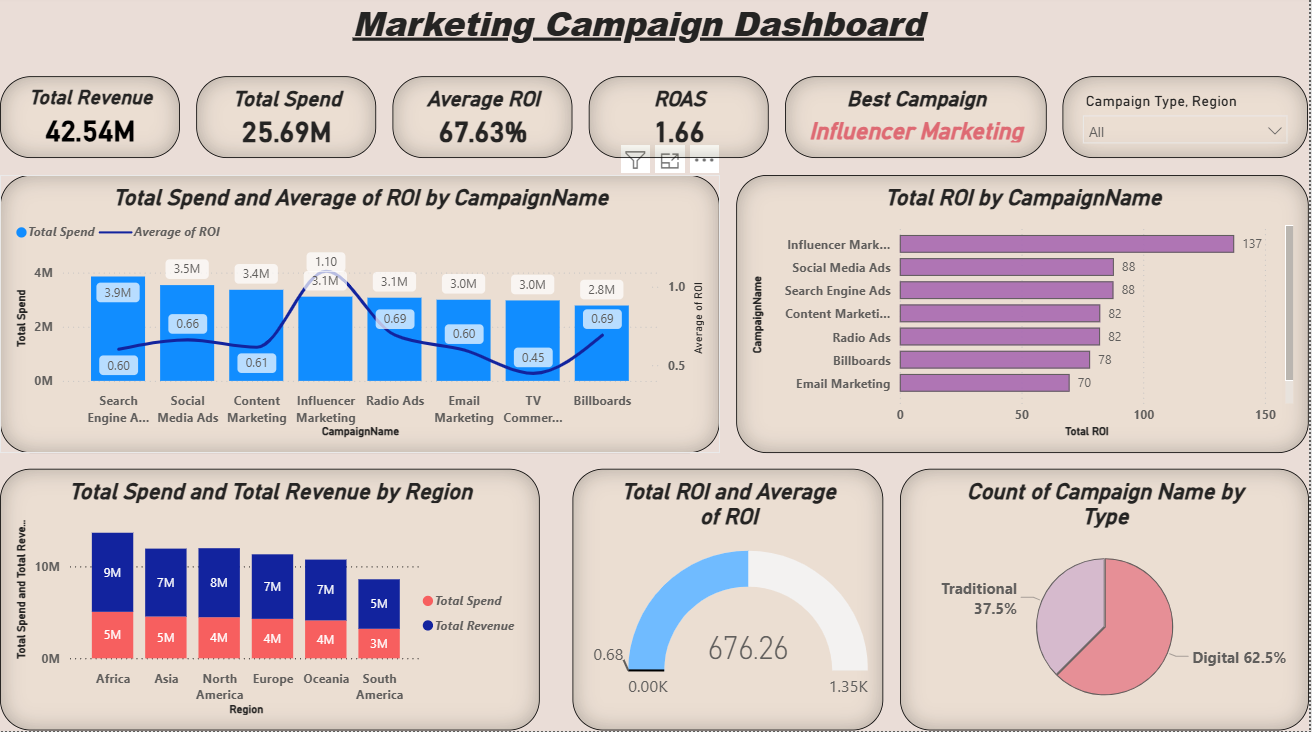

The dashboard page shown, as its layout file describes it:
{"tool":"powerbi","page":{"name":"Page 1","canvas":[1280,720],"ordinal":0},"visuals":[{"type":"columnChart","fields":{"Y":["marketing campaign performance.Total Spend","marketing campaign performance.Total Revenue"],"Category":["region performance.Region"]},"box":[0,464,528,256],"z":0},{"type":"lineClusteredColumnComboChart","fields":{"Y":["marketing campaign performance.Total Spend"],"Category":["marketing campaign details.CampaignName"],"Y2":["Avg(marketing campaign performance.ROI)"]},"box":[0,176,704,272],"z":1000},{"type":"barChart","fields":{"Y":["marketing campaign performance.Total ROI"],"Category":["marketing campaign performance.CampaignName"]},"box":[720,176,560,272],"z":2000},{"type":"pieChart","title":"Count of Campaign Name by Type","fields":{"Y":["CountNonNull(marketing campaign details.CampaignName)"],"Category":["marketing campaign details.Type"]},"box":[880,464,400,256],"z":3000},{"type":"gauge","fields":{"Y":["marketing campaign performance.Total ROI"],"TargetValue":["Avg(marketing campaign performance.ROI)"]},"box":[560,464,304,256],"z":4000},{"type":"card","title":"Total Revenue","fields":{"Values":["marketing campaign performance.Total Revenue"]},"box":[0,80,176,80],"z":5000},{"type":"card","title":"Total Spend","fields":{"Values":["marketing campaign performance.Total Spend"]},"box":[192,80,176,80],"z":6000},{"type":"card","title":"Average ROI","fields":{"Values":["Avg(marketing campaign performance.ROI)"]},"box":[384,80,176,80],"z":7000},{"type":"card","title":"Best Campaign","fields":{"Values":["marketing campaign performance.Best Campaign"]},"box":[768,80,256,80],"z":8000},{"type":"slicer","fields":{"Values":["marketing campaign details.Type","marketing campaign performance.Region"]},"box":[1040,80,240,80],"z":9000},{"type":"card","title":"ROAS","fields":{"Values":["marketing campaign performance.ROAS"]},"box":[576,80,176,80],"z":10000},{"type":"textbox","box":[320,0,608,64],"z":11000}]}

Visuals, with their boxes in screenshot pixels (x1, y1, x2, y2), scaled from the page's 1280x720 canvas onto the 1312x732 screenshot:
columnChart - marketing campaign performance.Total Spend x marketing campaign performance.Total Revenue: {"x1": 0, "y1": 472, "x2": 541, "y2": 731}
lineClusteredColumnComboChart - marketing campaign performance.Total Spend x marketing campaign details.CampaignName: {"x1": 0, "y1": 179, "x2": 722, "y2": 455}
barChart - marketing campaign performance.Total ROI x marketing campaign performance.CampaignName: {"x1": 738, "y1": 179, "x2": 1311, "y2": 455}
"Count of Campaign Name by Type" pieChart: {"x1": 902, "y1": 472, "x2": 1311, "y2": 731}
gauge - marketing campaign performance.Total ROI x Avg(marketing campaign performance.ROI): {"x1": 574, "y1": 472, "x2": 886, "y2": 731}
"Total Revenue" card: {"x1": 0, "y1": 81, "x2": 180, "y2": 163}
"Total Spend" card: {"x1": 197, "y1": 81, "x2": 377, "y2": 163}
"Average ROI" card: {"x1": 394, "y1": 81, "x2": 574, "y2": 163}
"Best Campaign" card: {"x1": 787, "y1": 81, "x2": 1050, "y2": 163}
slicer - marketing campaign details.Type x marketing campaign performance.Region: {"x1": 1066, "y1": 81, "x2": 1311, "y2": 163}
"ROAS" card: {"x1": 590, "y1": 81, "x2": 771, "y2": 163}
textbox: {"x1": 328, "y1": 0, "x2": 951, "y2": 65}
